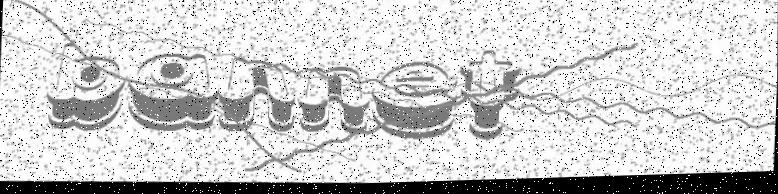a: (125, 51, 221, 135)
b: (44, 41, 127, 135)
e: (369, 60, 459, 145)
n: (218, 54, 300, 138), (296, 64, 372, 141)
t: (456, 50, 520, 145)
